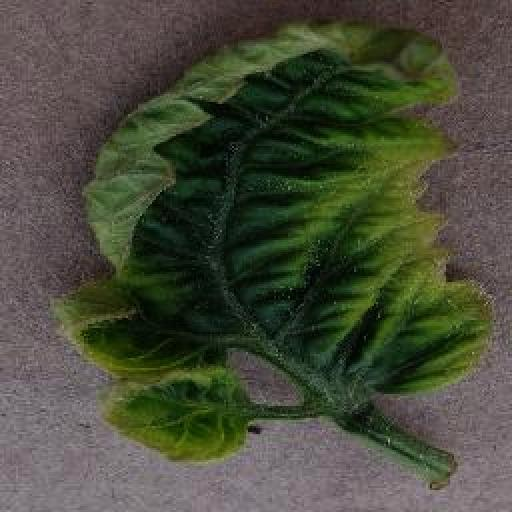disease_tomato: (55, 20, 496, 462)
